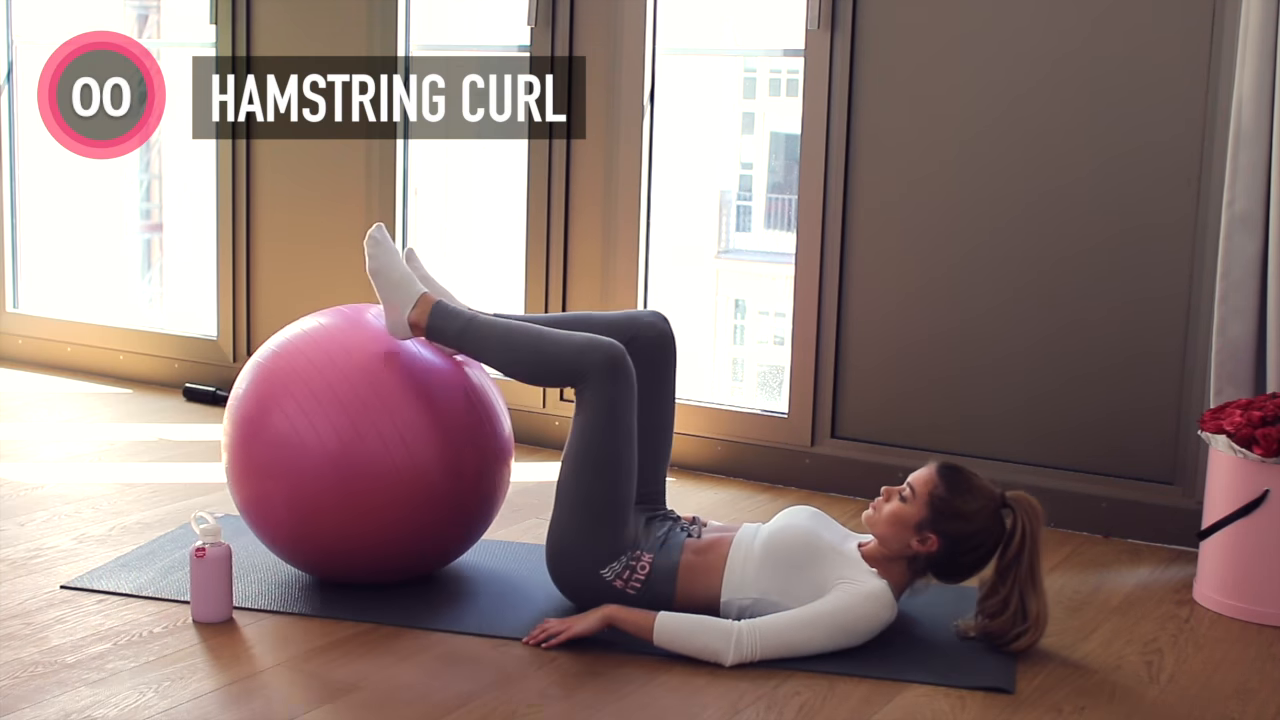yogaball: (219, 303, 518, 589)
